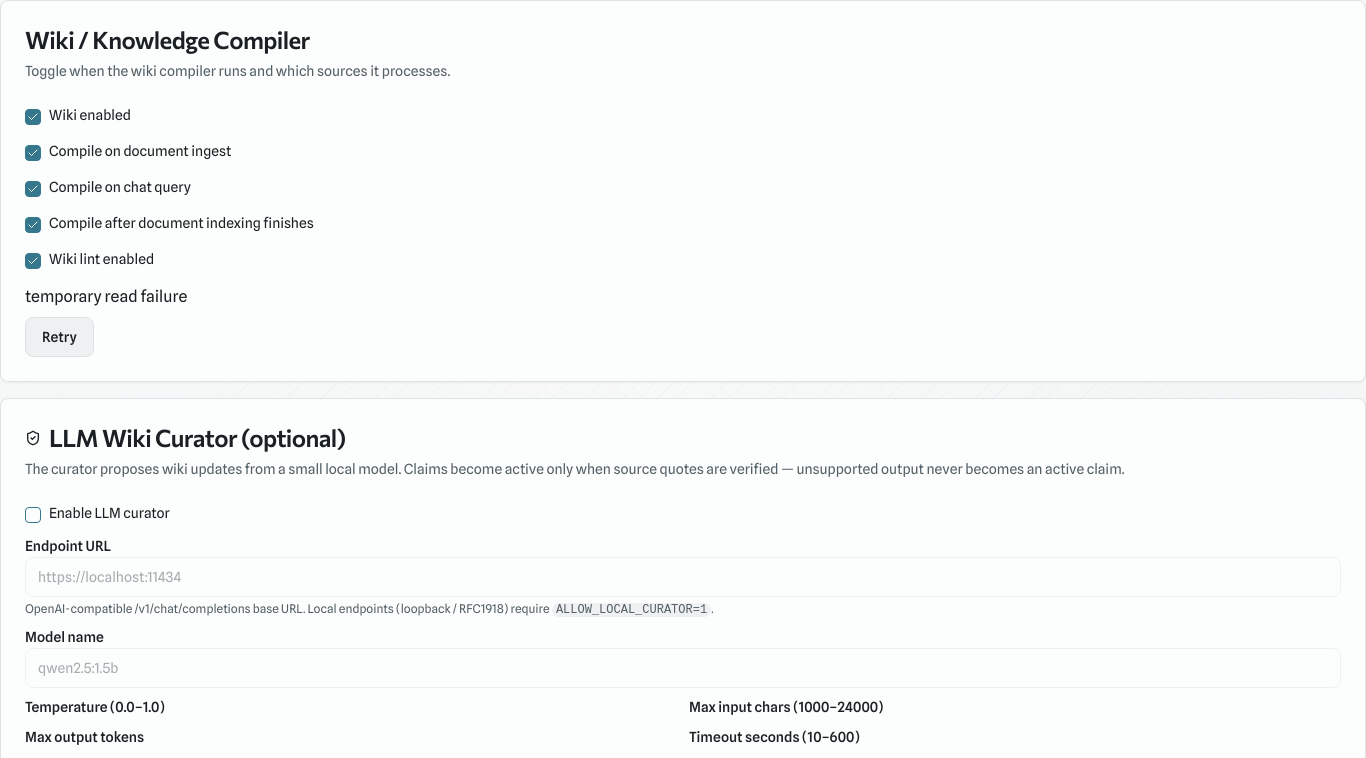
Test: WikiCuratorSettings issue #774 read outcomes › renders the authoritative enrichment result after Retry for null permission
This screenshot has width=1366, height=758.
Expected: the message shows "temporary read failure", x1=25 y1=287 x2=187 y2=306
Click the button "Retry": (59, 337) x1=25 y1=317 x2=94 y2=357
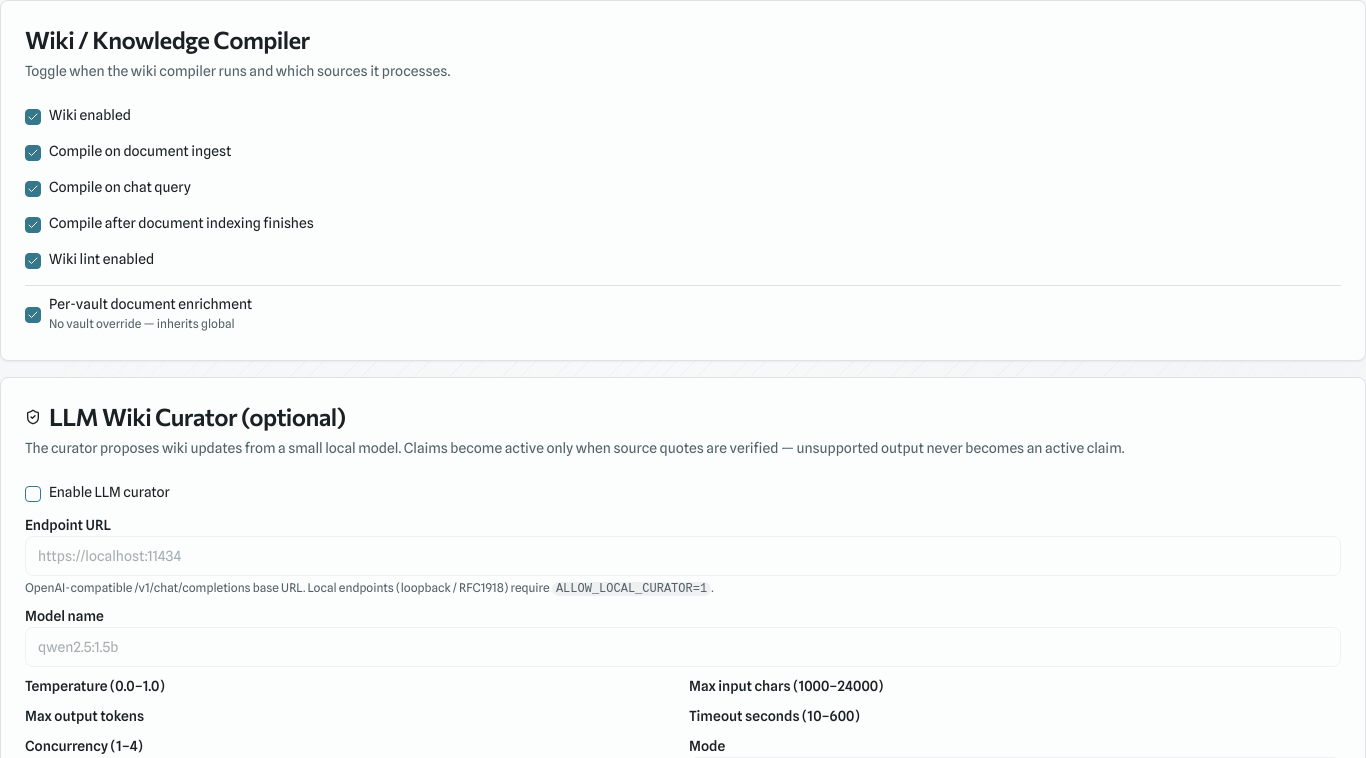
Now the checkbox named "Per-vault document enrichment" next to "Per-vault document enrichment" is checked, box x1=25 y1=307 x2=41 y2=323
Now the checkbox named "Per-vault document enrichment" next to "Per-vault document enrichment" is enabled, box x1=25 y1=307 x2=41 y2=323
Now the text "No vault override — inherits global" is shown, box x1=49 y1=316 x2=252 y2=332
